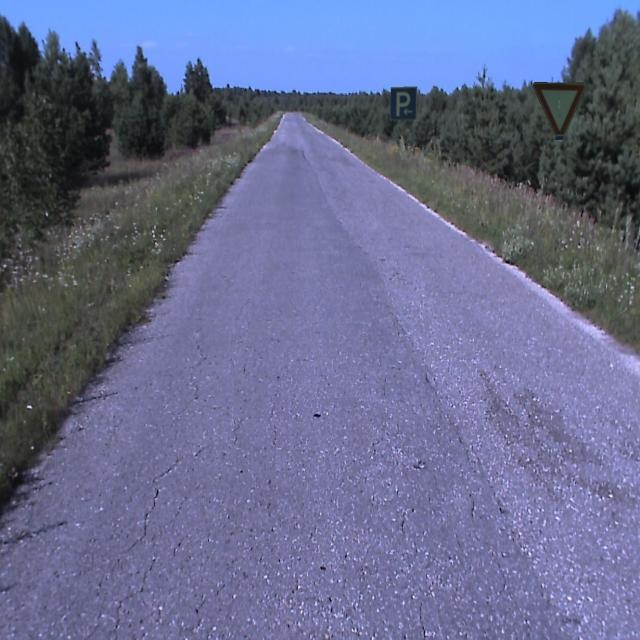road: (0, 113, 639, 639)
